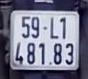1: (60, 16, 69, 41), (38, 41, 46, 66)
3: (65, 42, 75, 66)
4: (15, 42, 25, 65)
5: (20, 14, 31, 40)
8: (26, 42, 37, 65), (53, 43, 63, 66)
9: (31, 15, 41, 40)
L: (49, 16, 60, 39)
